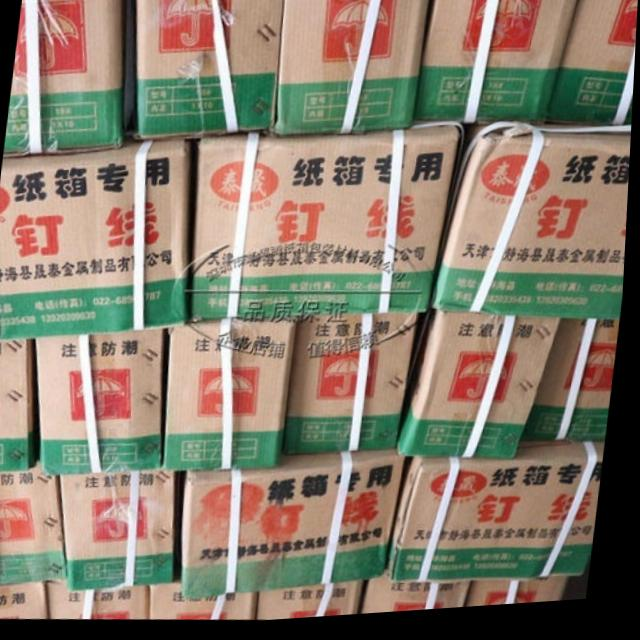box: (195, 128, 462, 321), (0, 129, 194, 340), (433, 131, 633, 328), (187, 454, 414, 600), (393, 447, 609, 585), (397, 315, 563, 466), (279, 0, 433, 138), (164, 320, 301, 473), (422, 0, 579, 130), (138, 0, 285, 138), (41, 326, 170, 474), (287, 317, 423, 456), (5, 0, 124, 153), (65, 465, 185, 587), (547, 0, 639, 131), (529, 327, 620, 450), (0, 455, 73, 587), (0, 338, 44, 471), (260, 585, 372, 623), (157, 583, 265, 622), (366, 583, 482, 619), (48, 587, 157, 619), (473, 584, 576, 614), (123, 0, 138, 131), (0, 587, 53, 618)
